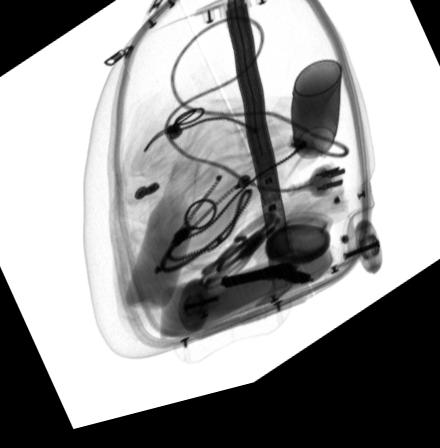Gun: (218, 276, 313, 302)
